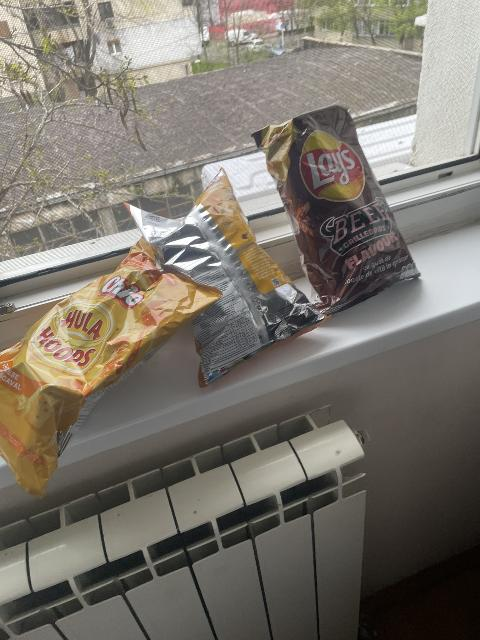Chio Cascaval 125g: (125, 167, 327, 383)
Chio Hula Hoops Cheese 70g: (1, 225, 230, 469)
Lays Beef Grilled Ribs 125g: (259, 106, 421, 311)
